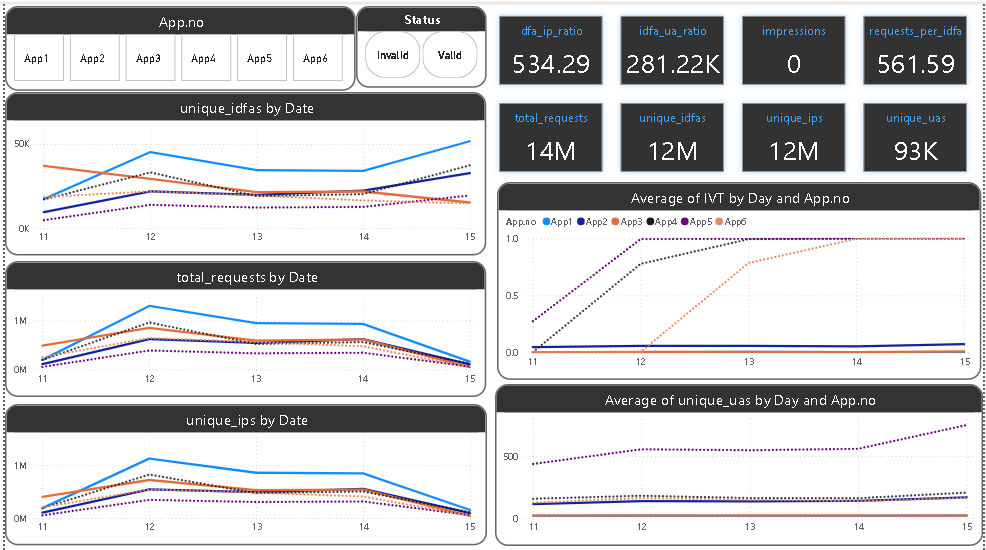

The page's visual inventory and layout, read from the dashboard file:
{"tool":"powerbi","page":{"name":"by Day","canvas":[1280,720],"ordinal":1},"visuals":[{"type":"lineChart","fields":{"Y":["Avg(CombinedAll.IVT)"],"Series":["CombinedAll.App.no"],"Category":["CombinedAll.Day"]},"box":[643.7,236.2,633.6,259.2],"z":0},{"type":"lineChart","title":"total_requests by Date","fields":{"Y":["Sum(CombinedAll.total_requests)"],"Series":["CombinedAll.App.no"],"Category":["CombinedAll.Day"]},"box":[0,339.2,630.4,178.1],"z":1000},{"type":"lineChart","title":"unique_idfas by Date","fields":{"Series":["CombinedAll.App.no"],"Y":["Avg(CombinedAll.unique_idfas)"],"Category":["CombinedAll.Day"]},"box":[0,117.3,630.4,214.4],"z":2000},{"type":"lineChart","title":"unique_ips by Date","fields":{"Y":["Sum(CombinedAll.unique_ips)"],"Series":["CombinedAll.App.no"],"Category":["CombinedAll.Day"]},"box":[0,526.2,630.8,185.5],"z":3000},{"type":"lineChart","fields":{"Series":["CombinedAll.App.no"],"Y":["Avg(CombinedAll.unique_uas)"],"Category":["CombinedAll.Day"]},"box":[640.8,499.7,639.4,211.7],"z":4000},{"type":"advancedSlicerVisual","fields":{"Values":["CombinedAll.App.no"]},"box":[0,5.8,459.4,110.9],"z":5000},{"type":"advancedSlicerVisual","fields":{"Values":["CombinedAll.Status"]},"box":[459.4,5.8,171.4,106.6],"z":6000},{"type":"cardVisual","fields":{"Data":["Sum(CombinedAll.idfa_ip_ratio)","Sum(CombinedAll.idfa_ua_ratio)","Sum(CombinedAll.impressions)","Sum(CombinedAll.requests_per_idfa)","Sum(CombinedAll.total_requests)","Sum(CombinedAll.unique_idfas)","Sum(CombinedAll.unique_ips)","Sum(CombinedAll.unique_uas)"]},"box":[630.7,5.8,646.6,230.4],"z":6001}]}

Visuals, with their boxes in screenshot pixels (x1, y1, x2, y2), scaled from the page's 1280x720 canvas onto the 986x550 screenshot:
lineChart - Avg(CombinedAll.IVT) x CombinedAll.App.no: pyautogui.locateOnScreen(496, 180, 984, 378)
"total_requests by Date" lineChart: pyautogui.locateOnScreen(0, 259, 486, 395)
"unique_idfas by Date" lineChart: pyautogui.locateOnScreen(0, 90, 486, 253)
"unique_ips by Date" lineChart: pyautogui.locateOnScreen(0, 402, 486, 544)
lineChart - CombinedAll.App.no x Avg(CombinedAll.unique_uas): pyautogui.locateOnScreen(494, 382, 985, 543)
advancedSlicerVisual - CombinedAll.App.no: pyautogui.locateOnScreen(0, 4, 354, 89)
advancedSlicerVisual - CombinedAll.Status: pyautogui.locateOnScreen(354, 4, 486, 86)
cardVisual - Sum(CombinedAll.idfa_ip_ratio) x Sum(CombinedAll.idfa_ua_ratio): pyautogui.locateOnScreen(486, 4, 984, 180)
